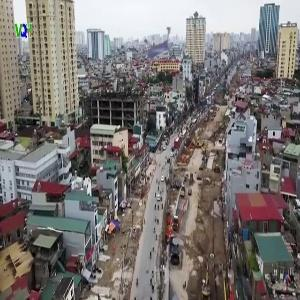drone: (131, 31, 187, 87)
